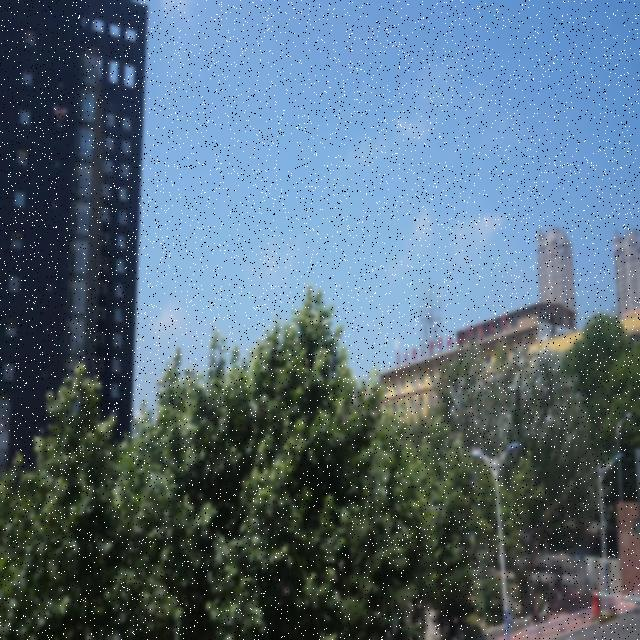UAV: (54, 106, 68, 120)
